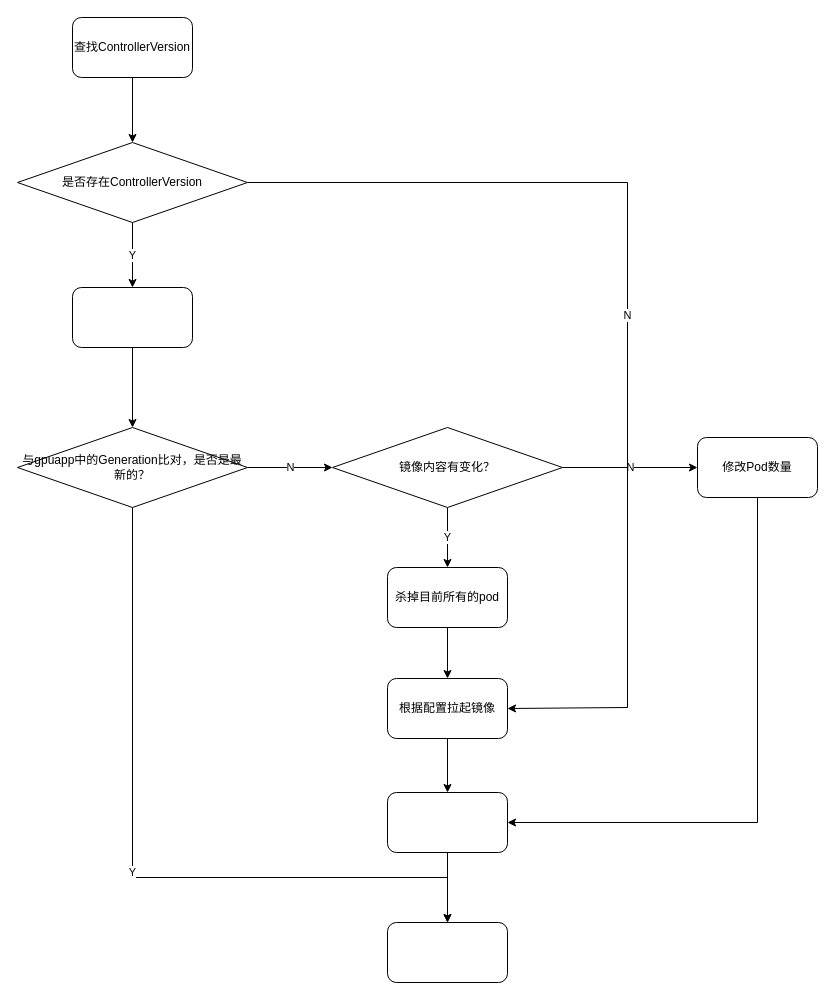
Some shapes in this 835 by 1000 pixel diagram are drawn without their labels. Here are the shapes that lost their labels. From the top down, the centre of each, then its label:
(x=132, y=317): 找到最新版本
(x=447, y=822): 创建ControllerVersion
(x=447, y=952): 修改gpuapp status
